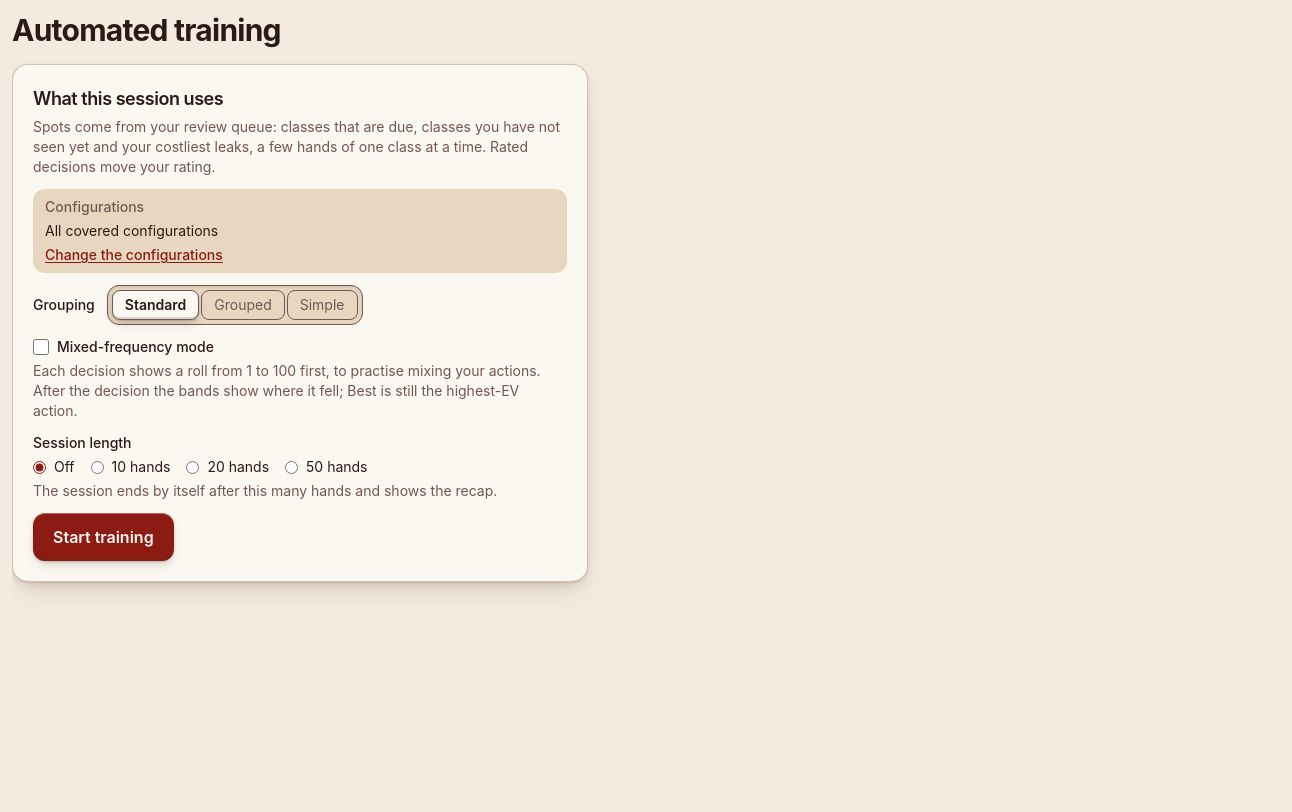
Test: R4.10 automated start › R4.10 a 422 no-coverage names the scope, not a drill, links the library and leaves Start to retry
This screenshot has width=1292, height=812.
Check: the heading "Automated training" is shown, box [12,12,281,48]
Click the button "Start training".
click(103, 537)  # box [33,513,174,561]
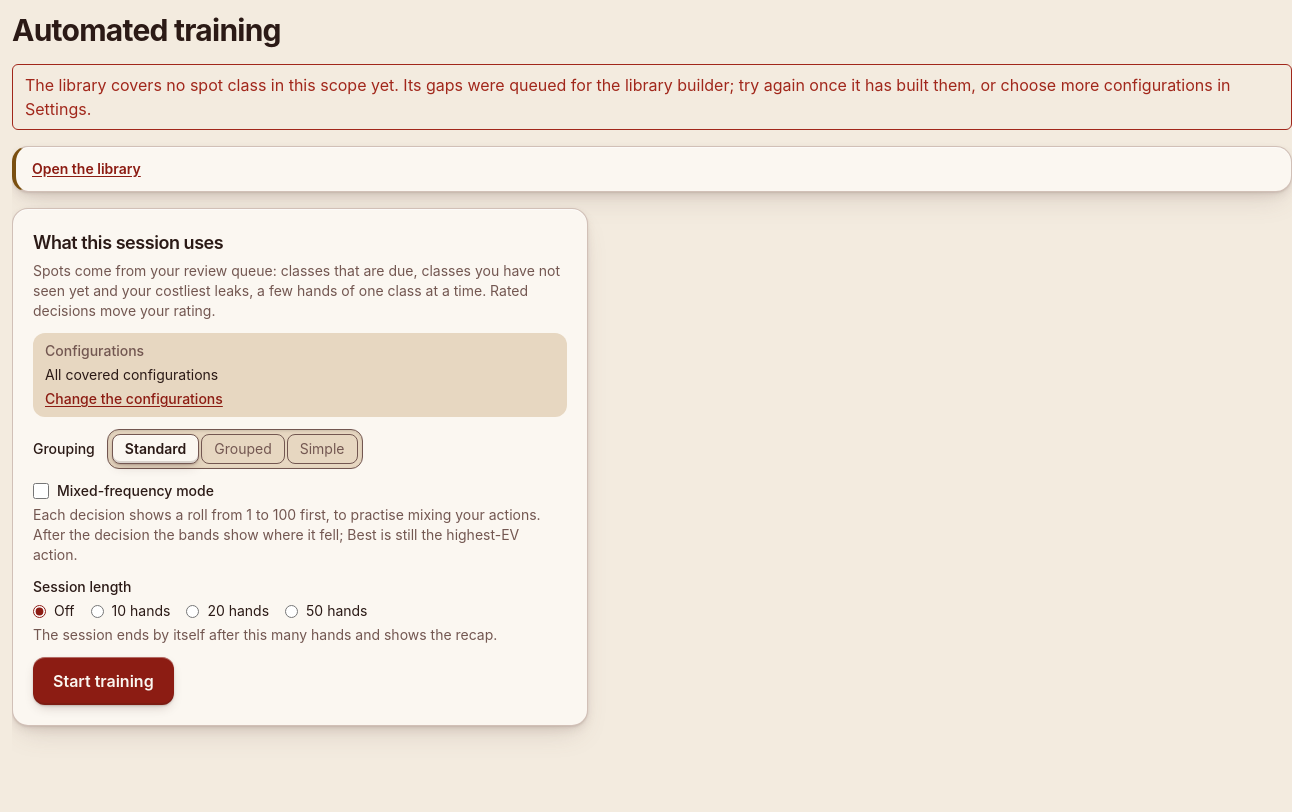
Check: the message does not show "server detail never shown", box [12,64,1291,130]
Check: the message shows "The library covers no spot class in this scope yet.", box [25,75,1230,119]
Check: the link "Open the library" is shown, box [32,159,141,179]
